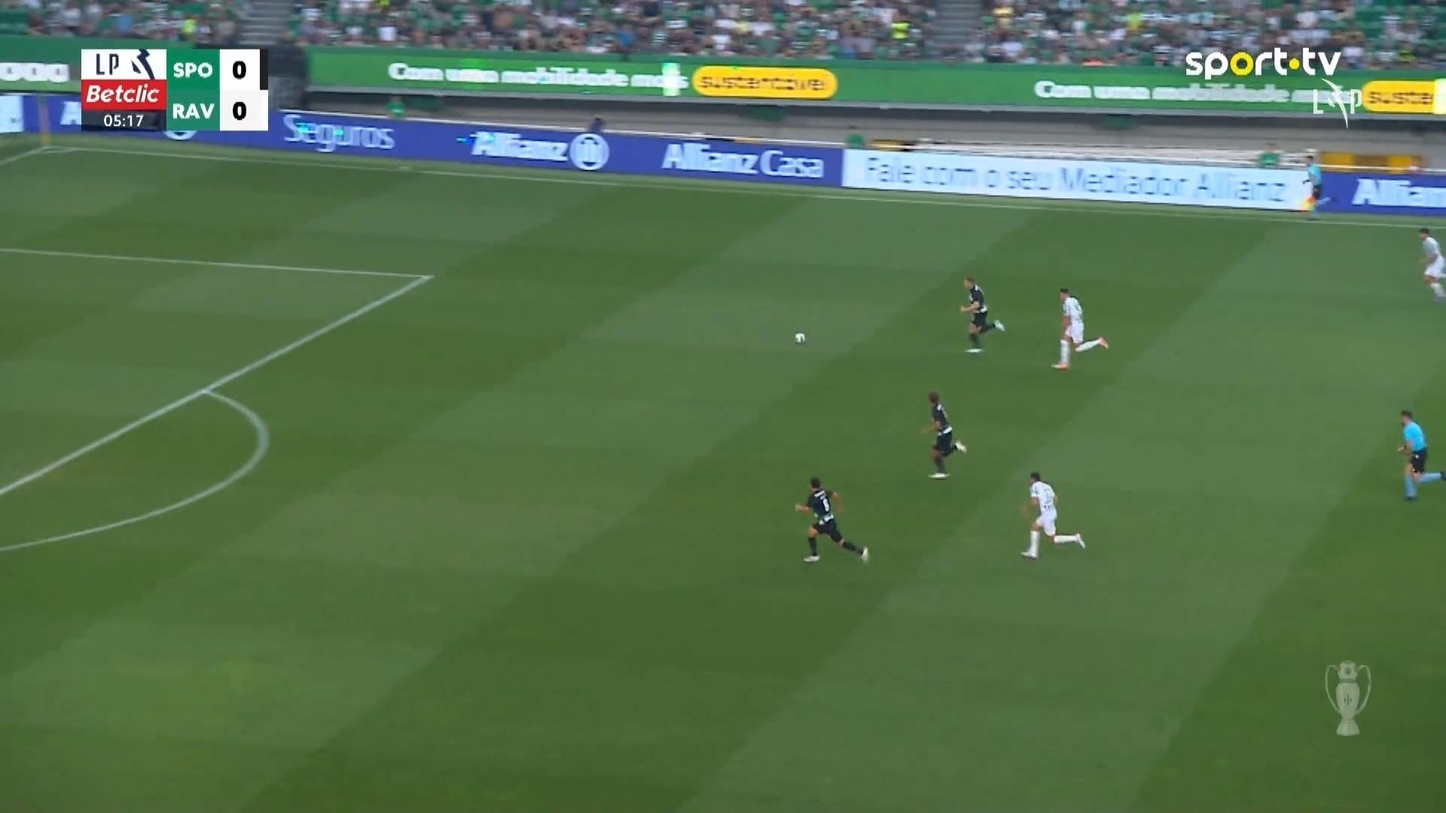ball: (794, 332, 805, 344)
player: (793, 475, 870, 565), (1019, 470, 1086, 559), (1051, 286, 1109, 370), (920, 390, 966, 478), (959, 276, 1005, 353), (1417, 227, 1444, 301), (1300, 153, 1323, 216)
referee: (1396, 408, 1444, 500)
